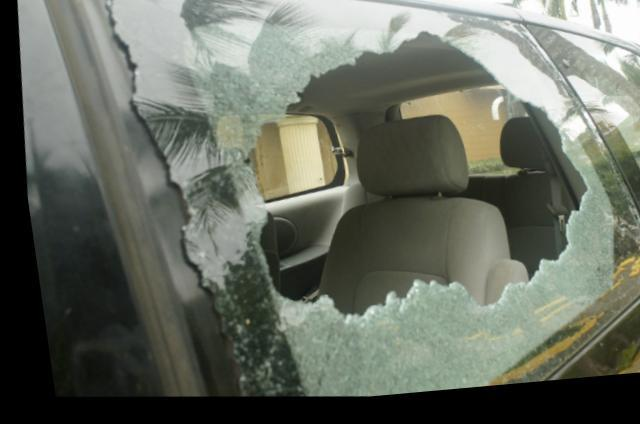glass shatter: (82, 0, 640, 402)
